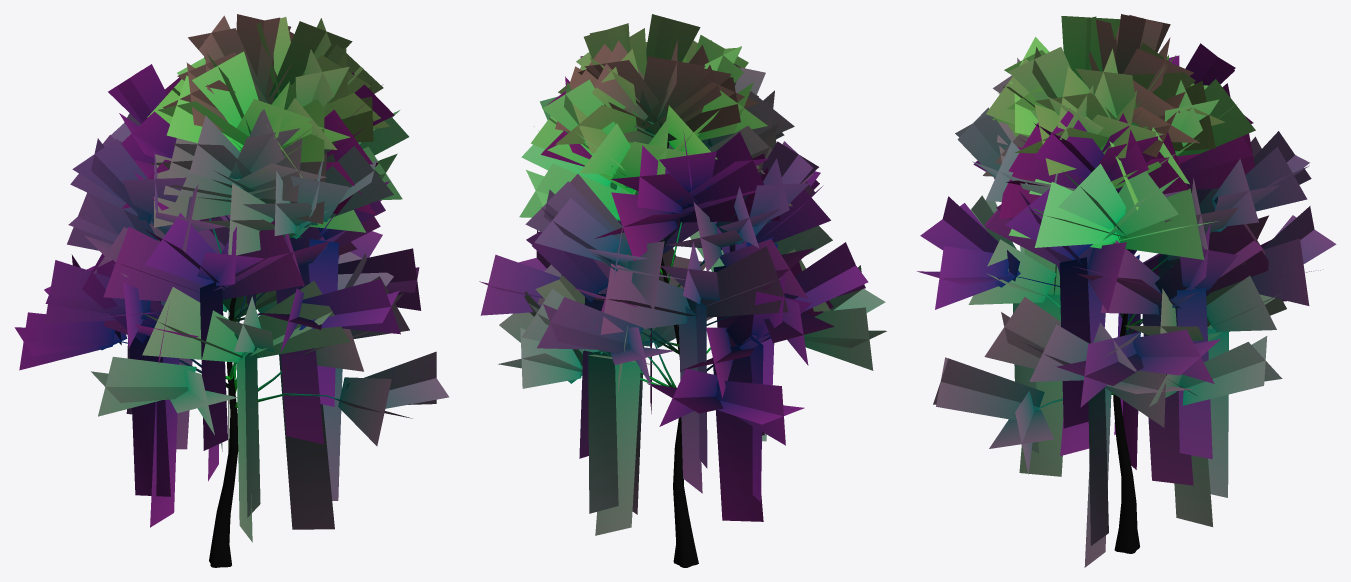
The model's file is Tree_10_4.fbx.
The picture shows the model from 3 angles, left to right: view 1: azimuth 30°, elevation 25°; view 2: azimuth 150°, elevation 25°; view 3: azimuth 270°, elevation 25°; orthographic projection. The views are drawn at different scales.
Visible parts, largest first — view 1: _4; view 2: _4; view 3: _4.
Part boxes in pixels (left/top/right/bottom): _4: left=14, top=14, right=448, bottom=567; _4: left=479, top=14, right=886, bottom=567; _4: left=917, top=14, right=1336, bottom=567.
Size of the model in its own units: 1318 by 1891 by 1333.
